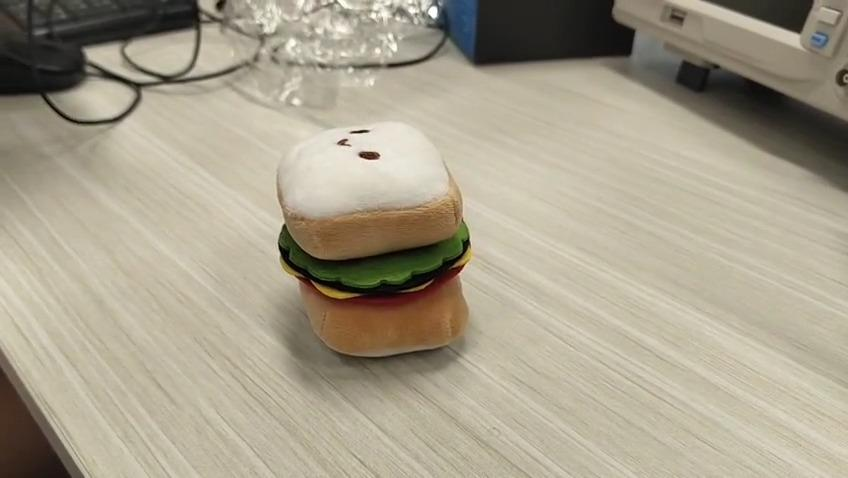objects: (276, 123, 473, 356)
